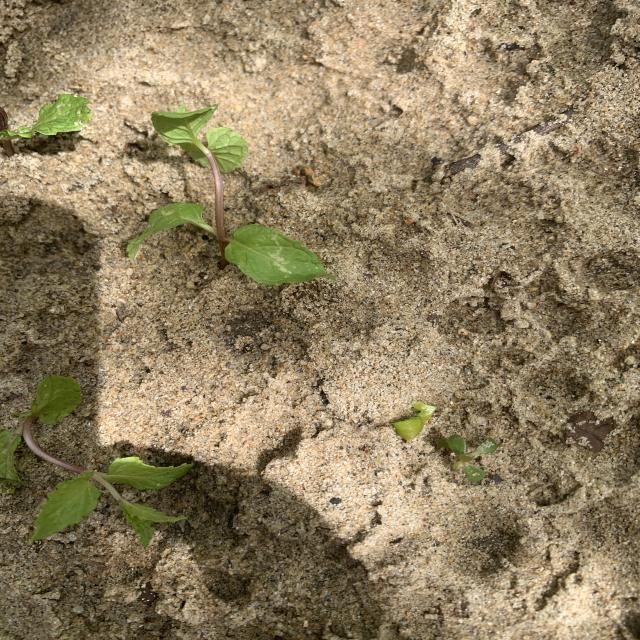crop: (126, 105, 335, 285), (0, 376, 194, 547), (0, 93, 93, 142)
weed: (436, 435, 498, 484), (393, 402, 435, 440)
